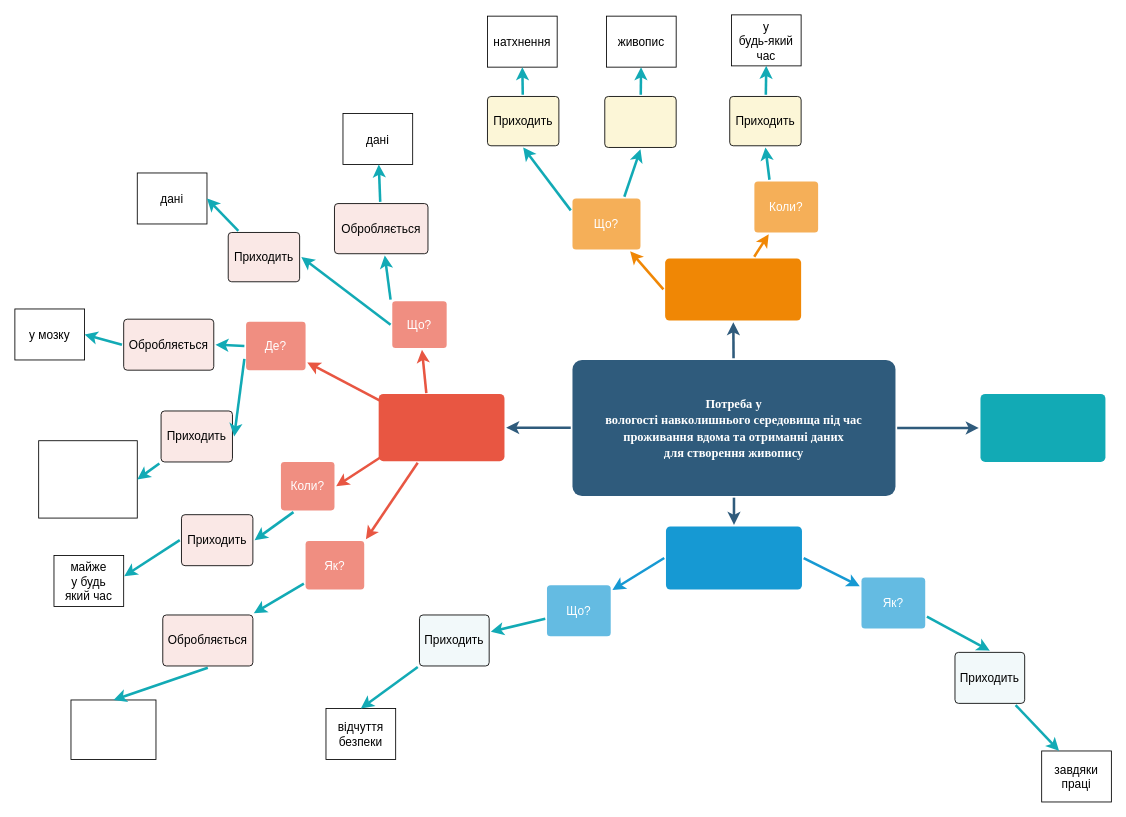
This 1126x817 diagram has some shape labels left out. Each missing label, with the centre of its shape:
Виходить: point (640, 121)
Вологість навколишнього середовища: point (1042, 428)
з навколишнього середовища: point (87, 479)
за допомогою відчуттів: point (113, 729)
Отримання даних: point (441, 427)
Проживання вдома: point (734, 557)
Створення живопису: point (733, 289)
